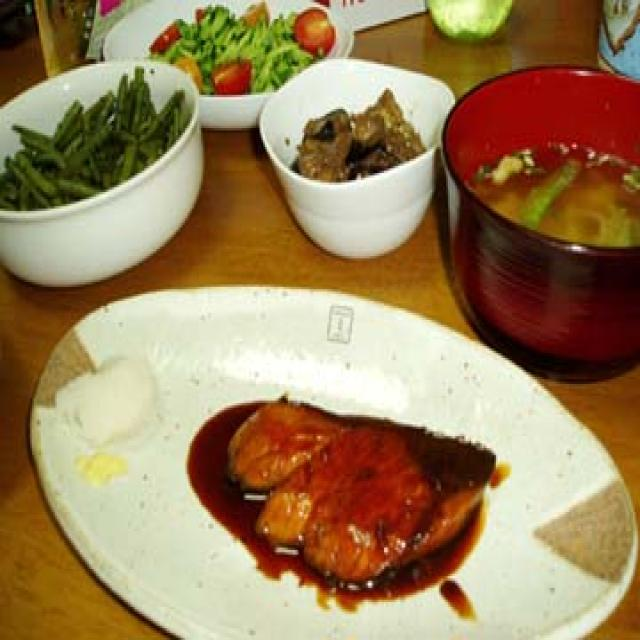熟制海鲜: (197, 391, 496, 588)
